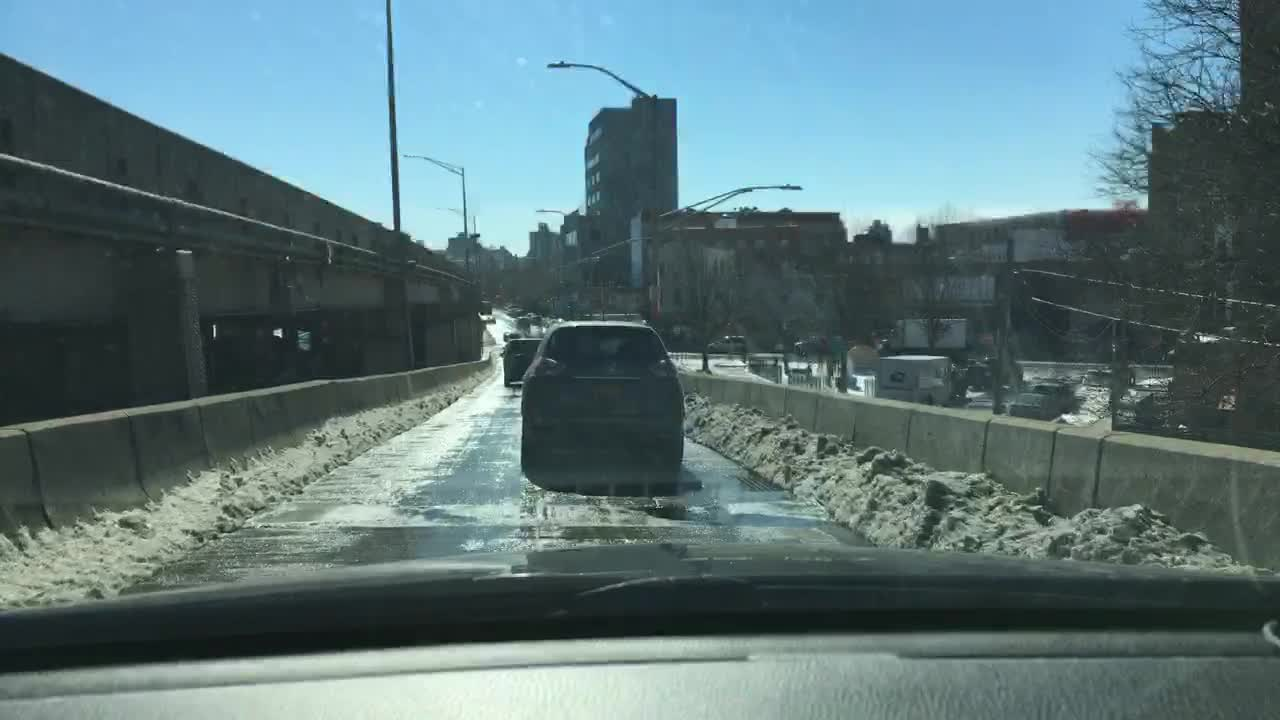car: (520, 321, 682, 493), (1111, 376, 1171, 428), (1007, 380, 1079, 419), (971, 355, 1026, 391), (500, 338, 542, 383), (792, 333, 843, 358), (704, 333, 751, 352), (498, 324, 520, 337), (514, 312, 529, 330)
truck: (873, 351, 969, 405), (876, 318, 969, 357), (478, 301, 489, 318)
